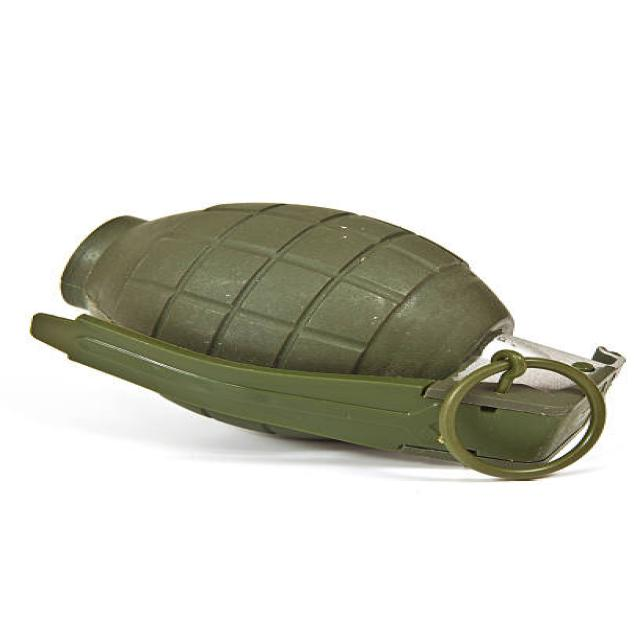grenade: (27, 197, 630, 485)
